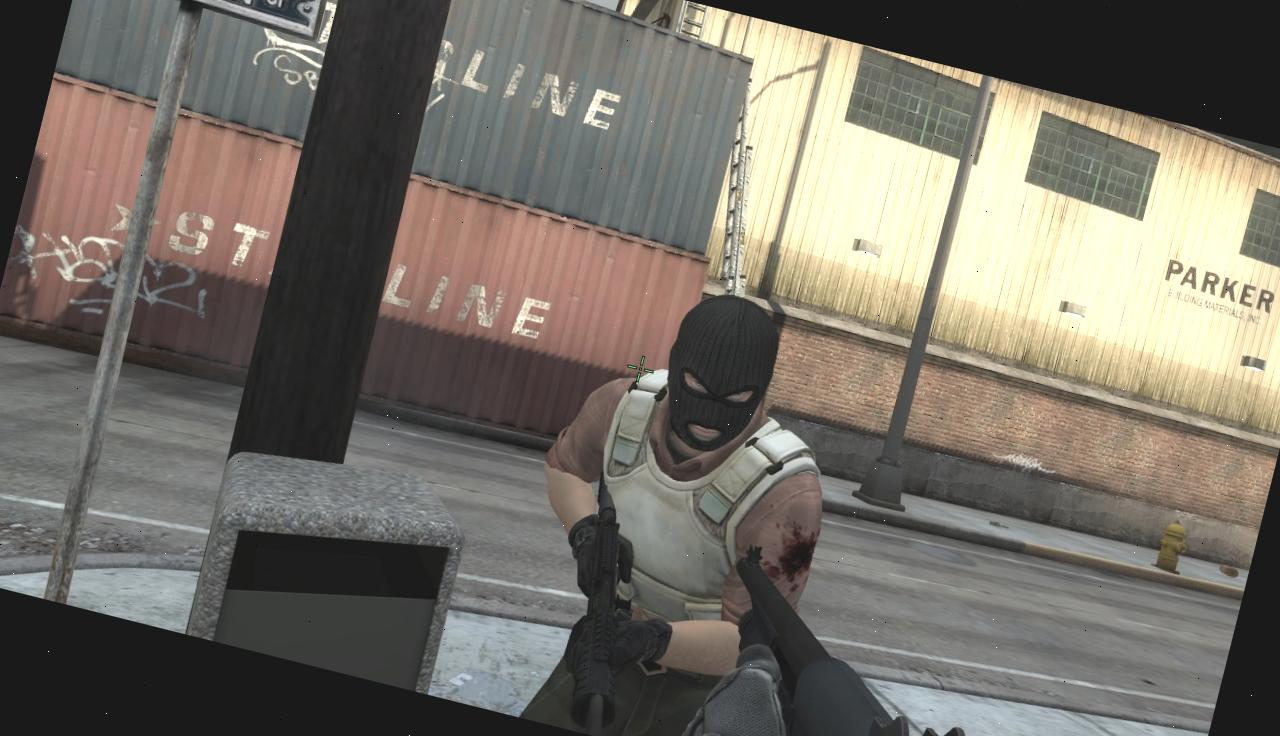shotgun: (688, 543, 1033, 736)
tt: (486, 259, 873, 736)
tthead: (650, 283, 789, 464)
